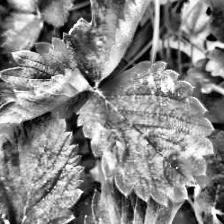Powdery Mildew Leaf: (75, 61, 215, 207), (0, 36, 94, 139), (61, 0, 169, 86)
